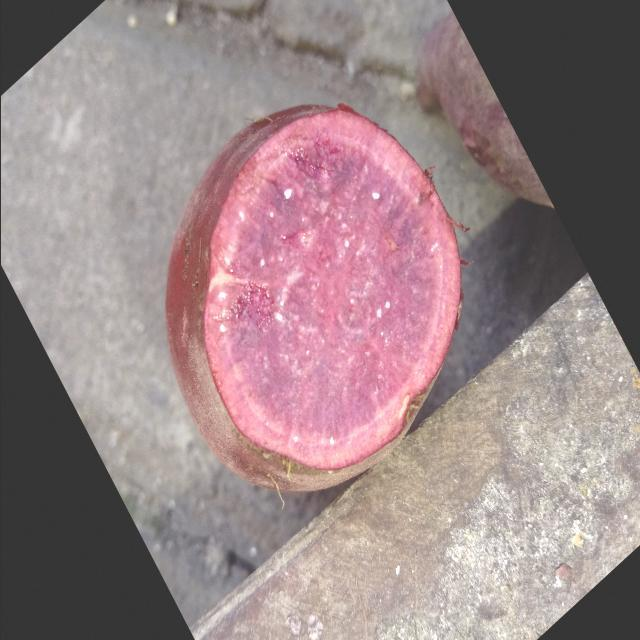Healthy Sweet Potato: (204, 108, 460, 470)
